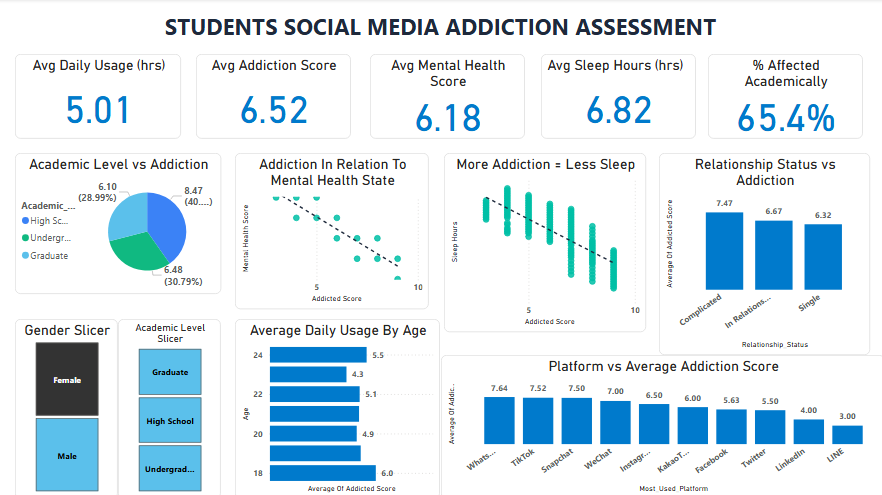

The dashboard page shown, as its layout file describes it:
{"tool":"powerbi","page":{"name":"Page 1","canvas":[1280,720],"ordinal":0},"visuals":[{"type":"textbox","box":[0,11.5,1280.2,67.7],"z":0},{"type":"card","title":"Avg Daily Usage (hrs)","fields":{"Values":["Avg(Students_Social_Media_Addiction.Avg_Daily_Usage_Hours)"]},"box":[27.4,79.2,239,122.4],"z":1000},{"type":"card","title":"Avg Addiction Score","fields":{"Values":["Avg(Students_Social_Media_Addiction.Addicted_Score)"]},"box":[288,79.2,223.2,122.4],"z":2000},{"type":"card","title":"Avg Mental Health Score","fields":{"Values":["Avg(Students_Social_Media_Addiction.Mental_Health_Score)"]},"box":[538.6,79.2,223.2,122.4],"z":3000},{"type":"card","title":"Avg Sleep Hours (hrs)","fields":{"Values":["Avg(Students_Social_Media_Addiction.Sleep_Hours_Per_Night)"]},"box":[784.8,79.2,223.2,122.4],"z":4000},{"type":"card","title":"% Affected Academically","fields":{"Values":["Students_Social_Media_Addiction.% Affected Academically"]},"box":[1025.3,79.2,223.2,122.4],"z":5000},{"type":"pieChart","title":"Academic Level vs Addiction","fields":{"Category":["Students_Social_Media_Addiction.Academic_Level"],"Y":["Avg(Students_Social_Media_Addiction.Addicted_Score)"]},"box":[27.4,221.8,296.6,203],"z":6000},{"type":"columnChart","title":"Academic Level vs Addiction","fields":{"Category":["Students_Social_Media_Addiction.Relationship_Status"],"Y":["Avg(Students_Social_Media_Addiction.Addicted_Score)"]},"box":[954.7,221.8,303.8,290.9],"z":7000},{"type":"scatterChart","title":"Addiction In Relation To Mental Health State","fields":{"X":["Students_Social_Media_Addiction.Addicted_Score"],"Y":["Students_Social_Media_Addiction.Mental_Health_Score"]},"box":[344.2,221.8,279.4,224.6],"z":8000},{"type":"scatterChart","title":"More Addiction = Less Sleep","fields":{"X":["Students_Social_Media_Addiction.Addicted_Score"],"Y":["Students_Social_Media_Addiction.Sleep_Hours_Per_Night"]},"box":[645.1,221.8,290.9,257.8],"z":9000},{"type":"clusteredBarChart","title":"Average Daily Usage By Age","fields":{"Category":["Students_Social_Media_Addiction.Age"],"Y":["Avg(Students_Social_Media_Addiction.Avg_Daily_Usage_Hours)"]},"box":[344.2,460.8,295.2,259.2],"z":10000},{"type":"slicer","title":"Gender Slicer","fields":{"Values":["Students_Social_Media_Addiction.Gender"]},"box":[27.4,460.8,148.3,259.2],"z":11000},{"type":"slicer","title":"Academic Level Slicer","fields":{"Values":["Students_Social_Media_Addiction.Academic_Level"]},"box":[175.7,460.8,148.3,259.2],"z":12000},{"type":"columnChart","title":"Platform vs Average Addiction Score","fields":{"Category":["Students_Social_Media_Addiction.Most_Used_Platform"],"Y":["Avg(Students_Social_Media_Addiction.Addicted_Score)"]},"box":[640.8,512.6,639.4,207.4],"z":13000}]}

Visuals, with their boxes in screenshot pixels (x1, y1, x2, y2), scaled from the page's 1280x720 canvas onto the 882x495 screenshot:
textbox: bbox=(0, 8, 881, 54)
"Avg Daily Usage (hrs)" card: bbox=(19, 54, 184, 139)
"Avg Addiction Score" card: bbox=(198, 54, 352, 139)
"Avg Mental Health Score" card: bbox=(371, 54, 525, 139)
"Avg Sleep Hours (hrs)" card: bbox=(541, 54, 695, 139)
"% Affected Academically" card: bbox=(706, 54, 860, 139)
"Academic Level vs Addiction" pieChart: bbox=(19, 152, 223, 292)
"Academic Level vs Addiction" columnChart: bbox=(658, 152, 867, 352)
"Addiction In Relation To Mental Health State" scatterChart: bbox=(237, 152, 430, 307)
"More Addiction = Less Sleep" scatterChart: bbox=(445, 152, 645, 330)
"Average Daily Usage By Age" clusteredBarChart: bbox=(237, 317, 441, 494)
"Gender Slicer" slicer: bbox=(19, 317, 121, 494)
"Academic Level Slicer" slicer: bbox=(121, 317, 223, 494)
"Platform vs Average Addiction Score" columnChart: bbox=(442, 352, 881, 494)
